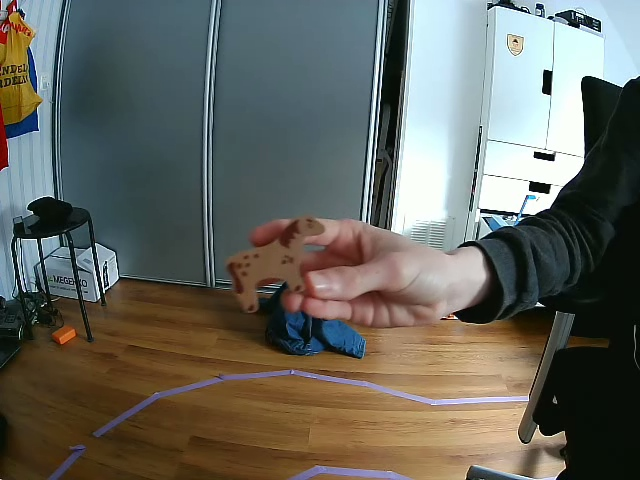paard: (228, 214, 324, 312)
